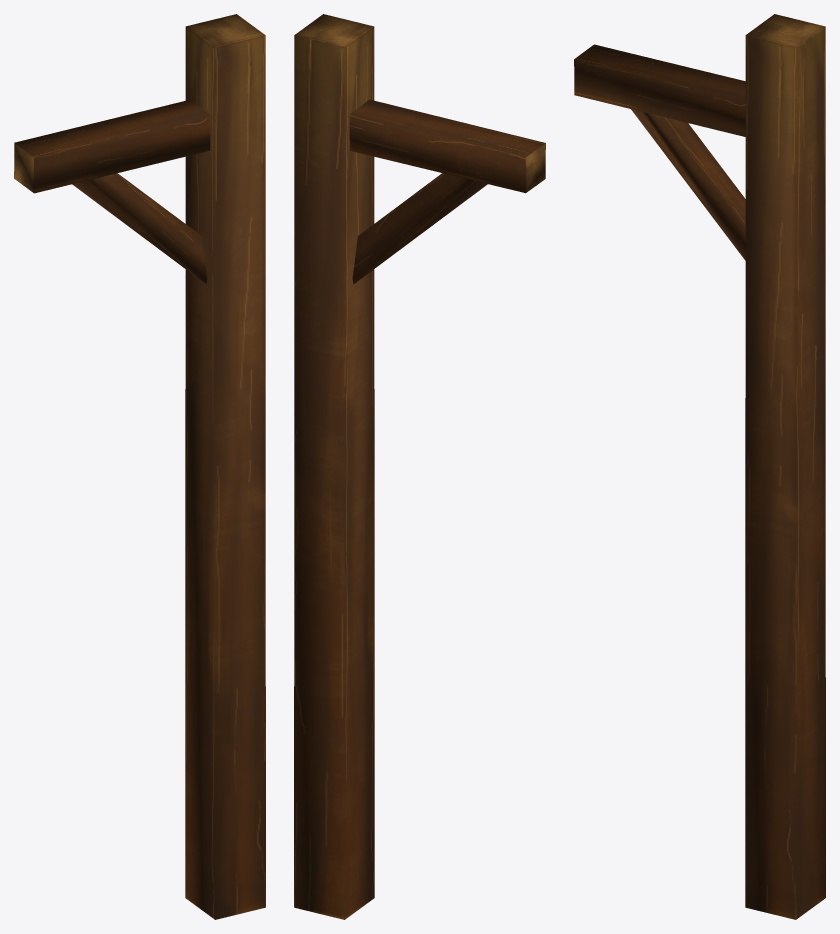
Rendered from 3_Farol_Madera_Original_Claro2_LOD_1.fbx.
3 renders of one model, left to right at view 1: azimuth 30°, elevation 25°; view 2: azimuth 150°, elevation 25°; view 3: azimuth 330°, elevation 25°, orthographic.
Parts seen in each view (by area): view 1: 3_Farol_Madera_Original_Claro2_LOD_1; view 2: 3_Farol_Madera_Original_Claro2_LOD_1; view 3: 3_Farol_Madera_Original_Claro2_LOD_1.
Part boxes in pixels (left/top/right/bottom): 3_Farol_Madera_Original_Claro2_LOD_1: left=14, top=14, right=265, bottom=919; 3_Farol_Madera_Original_Claro2_LOD_1: left=294, top=14, right=545, bottom=919; 3_Farol_Madera_Original_Claro2_LOD_1: left=574, top=14, right=825, bottom=919.
Bounding box in the file's own units: 81.29 × 298 × 18.56.
